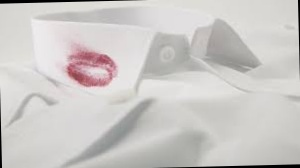lipstick: (68, 50, 120, 85)
